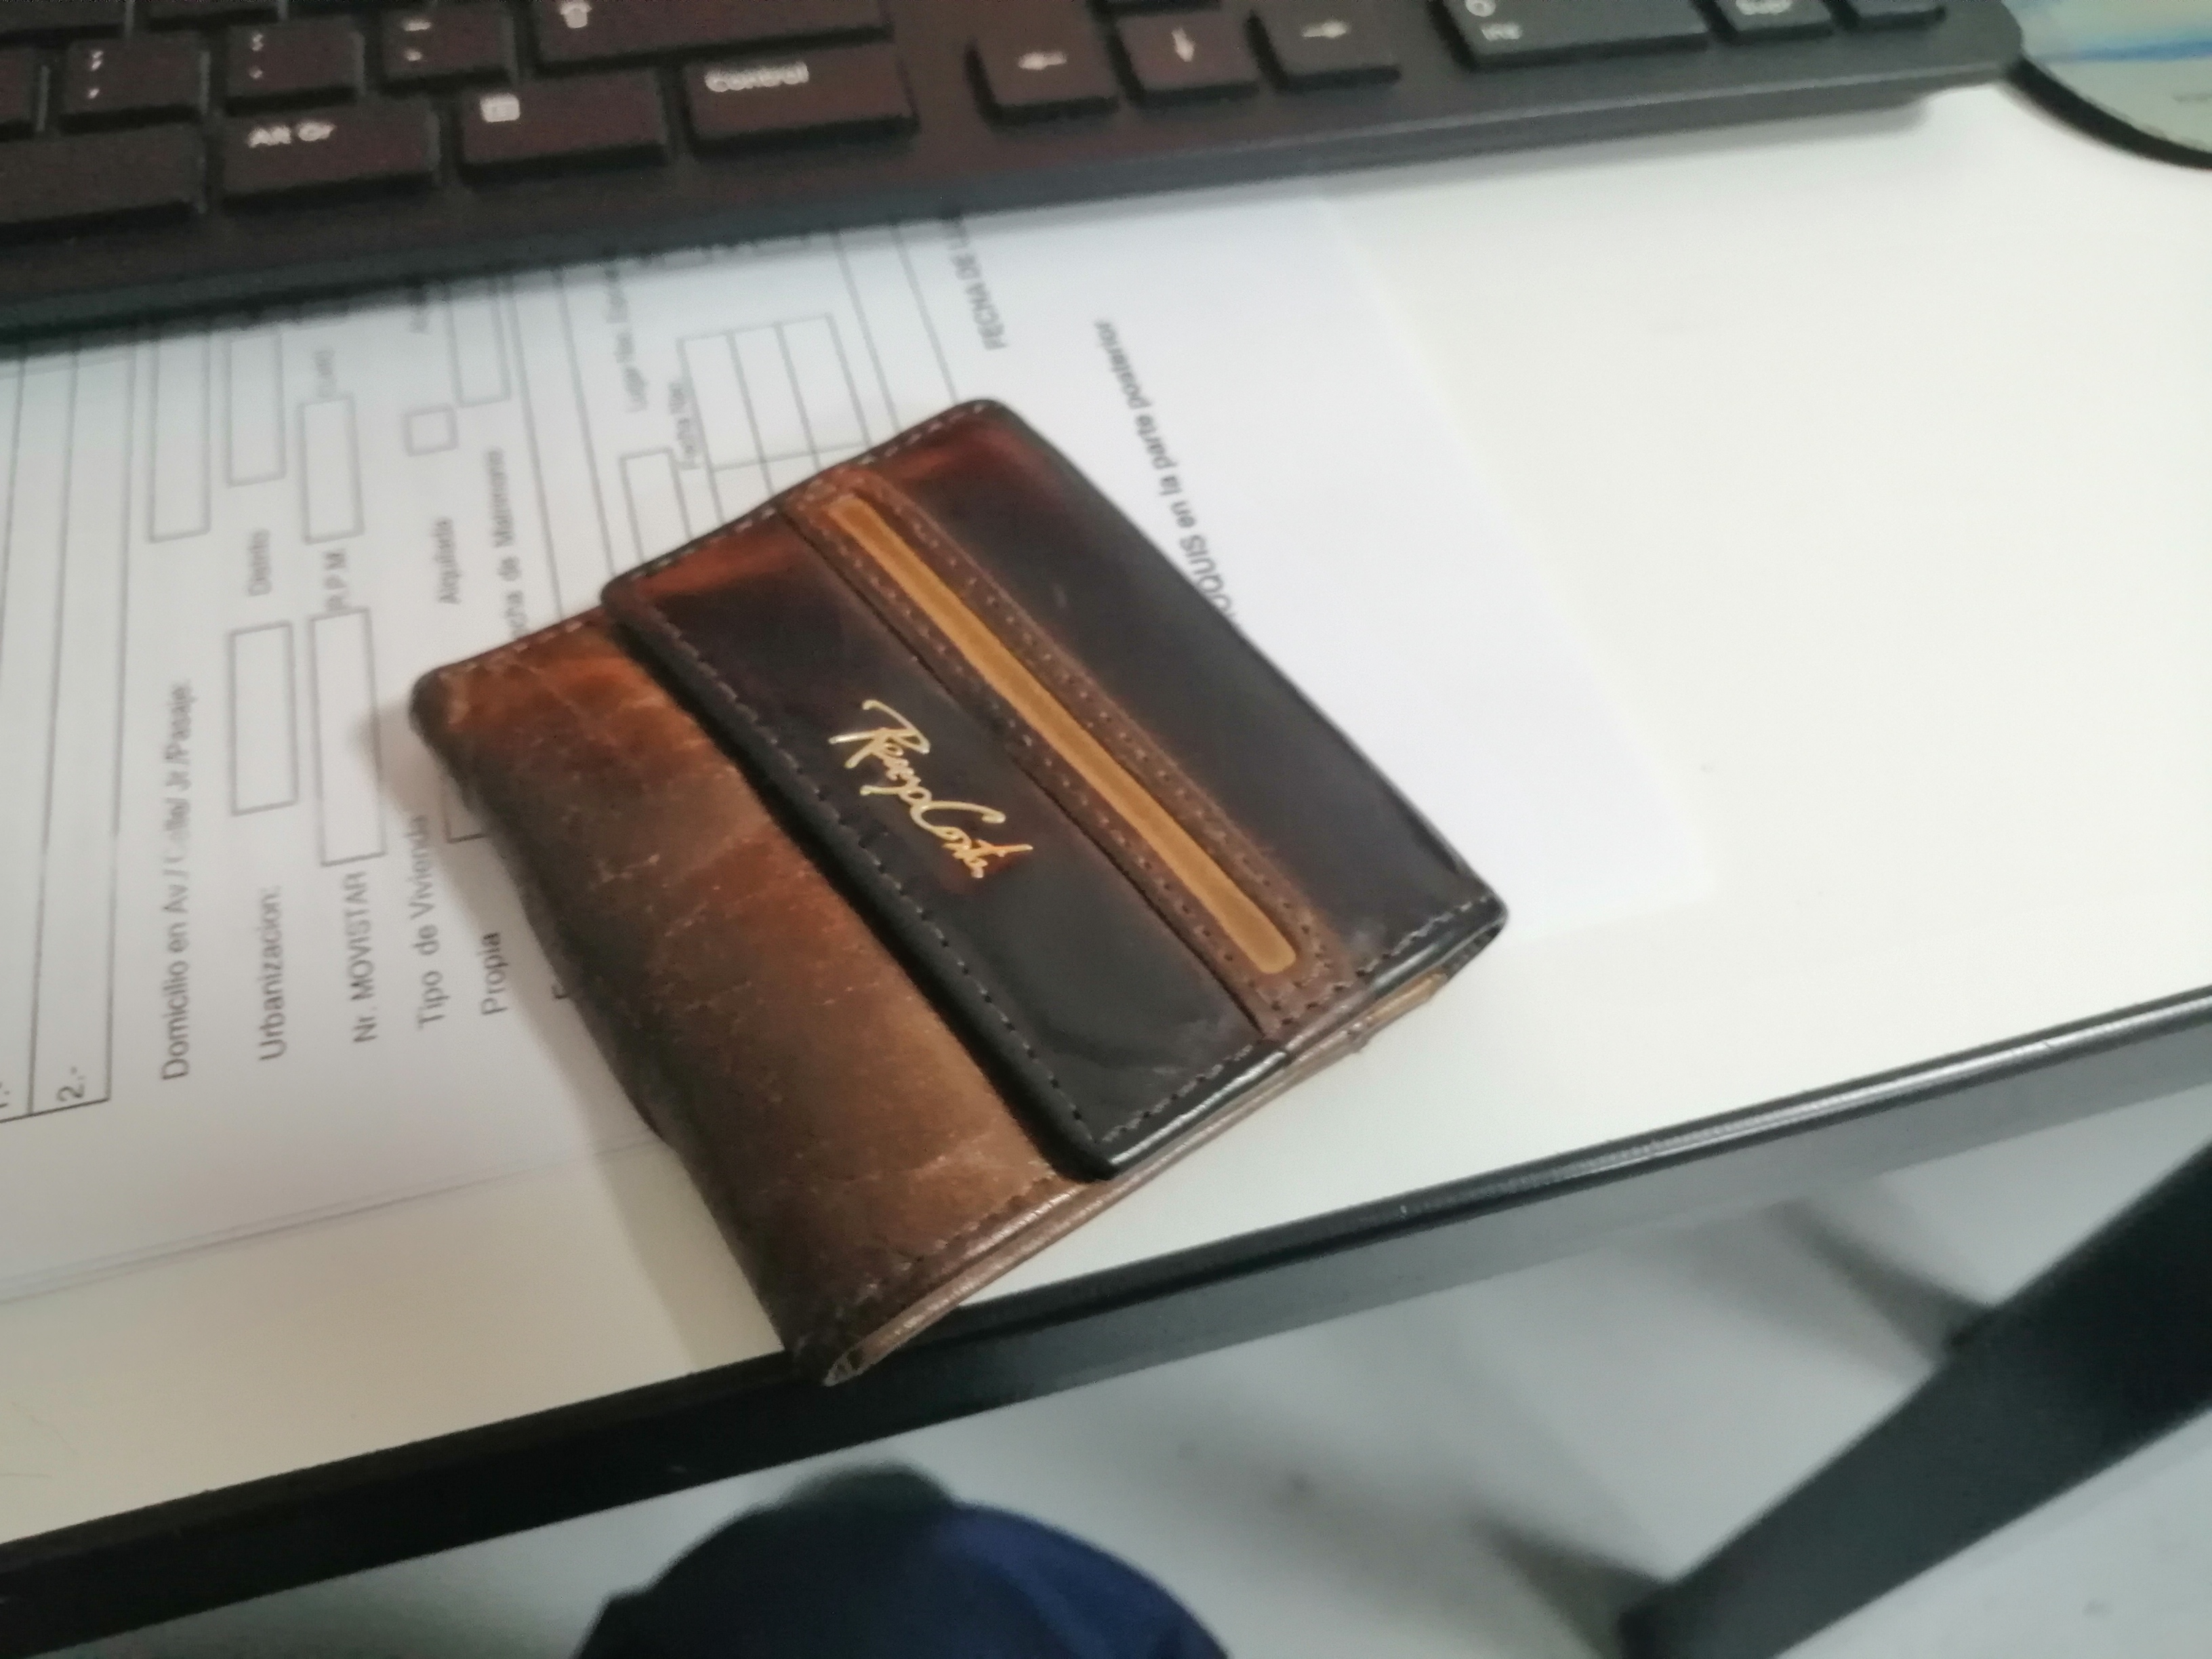monedero: (381, 378, 1536, 1429)
